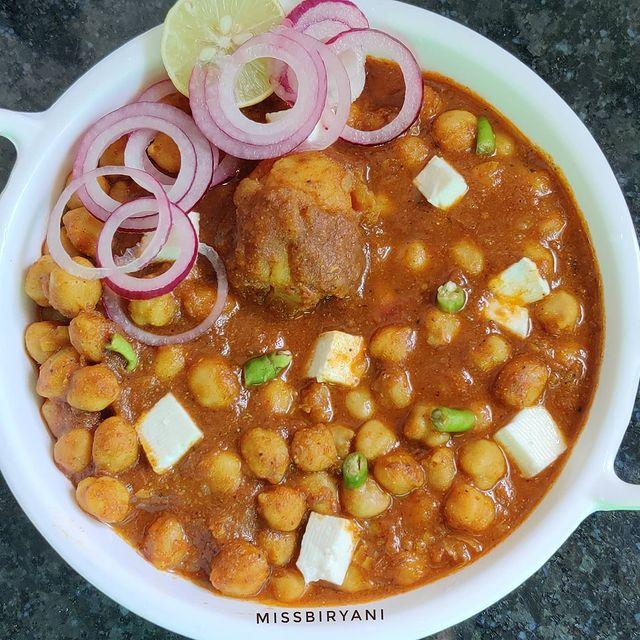Chole: (34, 245, 591, 596)
